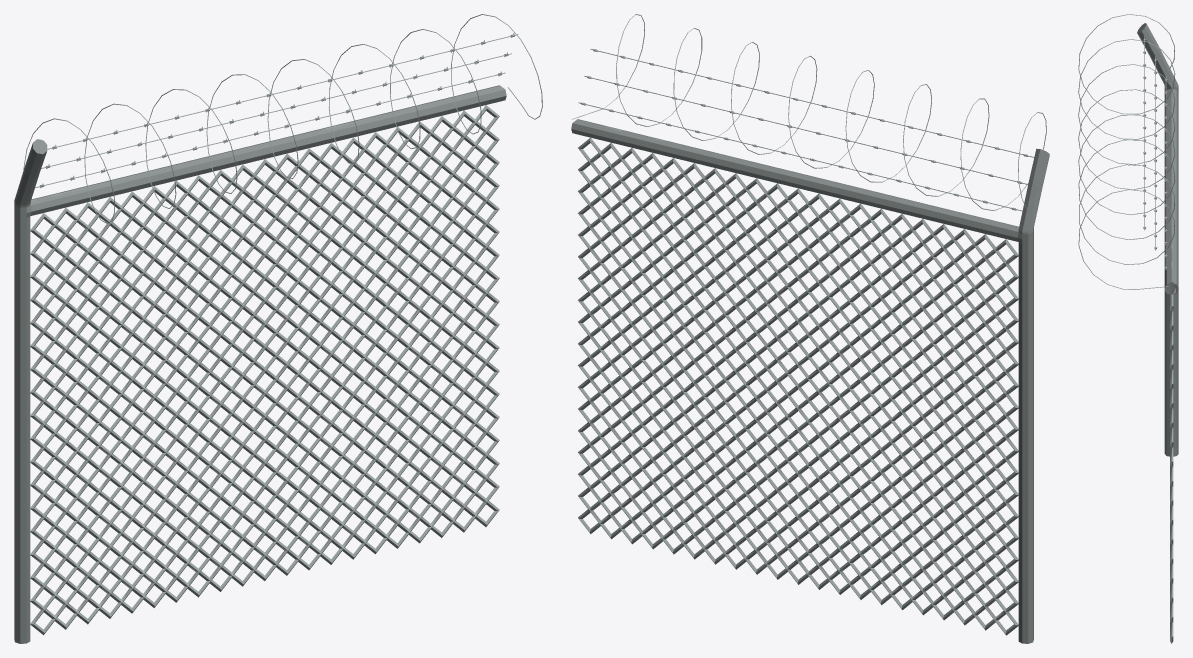
File: FenceL.fbx
The picture shows the model from 3 angles, left to right: view 1: azimuth 30°, elevation 25°; view 2: azimuth 150°, elevation 25°; view 3: azimuth 270°, elevation 25°; orthographic projection. The views are drawn at different scales.
Parts seen in each view (by area): view 1: polySurface515; view 2: polySurface515; view 3: polySurface515.
Part boxes in pixels (bbox=[...]): polySurface515: bbox=[14, 14, 542, 643]; polySurface515: bbox=[571, 14, 1049, 643]; polySurface515: bbox=[1078, 14, 1178, 643].
Bounding box in the file's own units: 17.36 × 17.99 × 3.66.
Materials: 1 (1 with a texture image).
